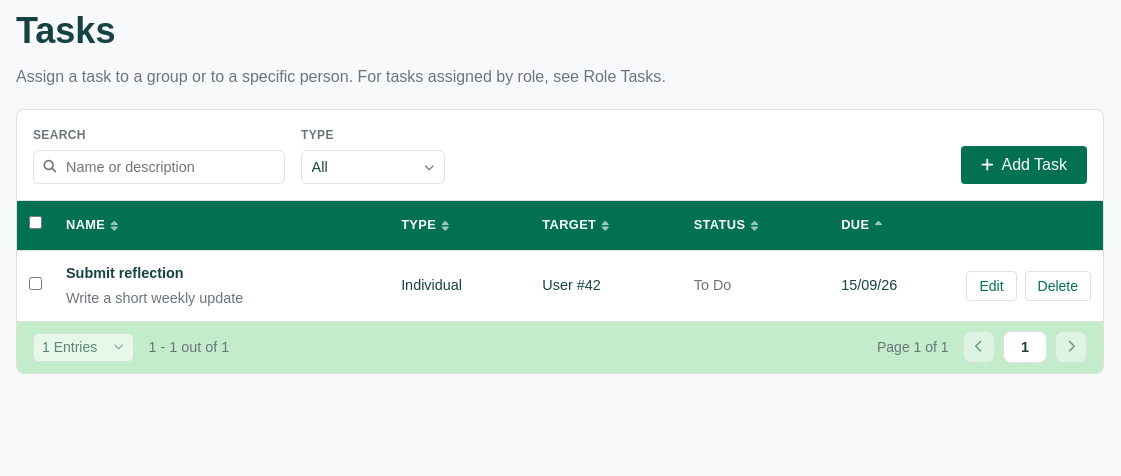
Test: AdminTasksPage › supports row selection with the existing admin table pattern
The width and height of the screenshot is (1121, 476).
Click the checkbox named "Select Submit reflection": [36, 284] box [29,278,42,290]
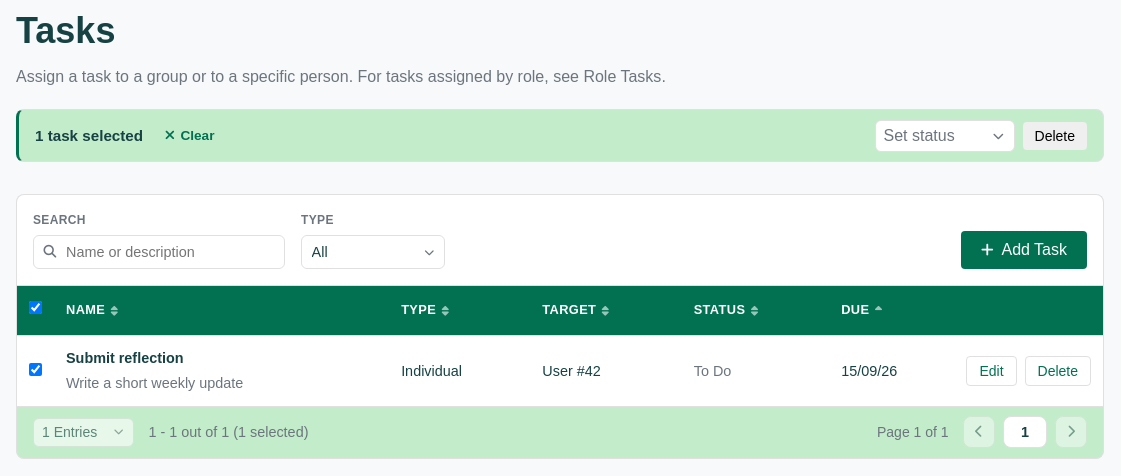
Check: the text "1 task selected" is shown, box [35,124,143,148]
